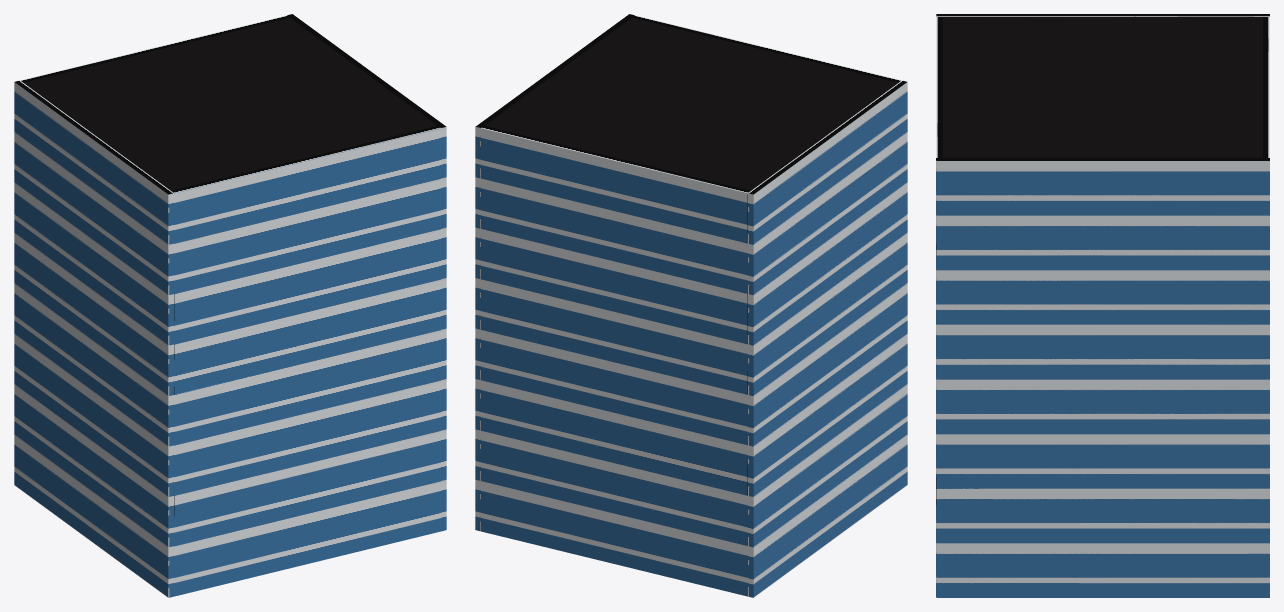
The model's file is House.fbx.
3 renders of one model, left to right at view 1: azimuth 30°, elevation 25°; view 2: azimuth 150°, elevation 25°; view 3: azimuth 270°, elevation 25°, orthographic. The views are drawn at different scales.
Visible parts, largest first — view 1: Cube, Cube_cell.042, Cube_cell.036, Cube_cell.022, Cube_cell.040, Cube_cell.052, Cube_cell.019, Cube_cell.015, Cube_cell.028, Cube_cell.026, Cube_cell.014, Cube_cell.043 (+20 smaller); view 2: Cube, Cube_cell.042, Cube_cell.022, Cube_cell.014, Cube_cell.015, Cube_cell.026, Cube_cell.028, Cube_cell.023, Cube_cell.043, Cube_cell.039, Cube_cell.044, Cube_cell.025 (+9 smaller); view 3: Cube, Cube_cell.002, Cube_cell.008, Cube_cell.030, Cube_cell.021, Cube_cell.033, Cube_cell.042, Cube_cell.022, Cube_cell.016, Cube_cell.041, Cube_cell.018, Cube_cell.044 (+13 smaller).
Boxes of the visible parts, x1,y1,x2,y2 form: Cube: [14, 14, 445, 596]; Cube_cell.042: [20, 48, 237, 160]; Cube_cell.036: [259, 310, 420, 459]; Cube_cell.022: [219, 76, 414, 195]; Cube_cell.040: [263, 396, 394, 567]; Cube_cell.052: [269, 195, 385, 363]; Cube_cell.019: [95, 194, 302, 361]; Cube_cell.015: [83, 126, 207, 245]; Cube_cell.028: [145, 124, 301, 255]; Cube_cell.026: [14, 116, 92, 286]; Cube_cell.014: [61, 286, 144, 492]; Cube_cell.043: [83, 453, 263, 548]; Cube: [475, 14, 907, 596]; Cube_cell.042: [609, 98, 824, 199]; Cube_cell.022: [595, 34, 776, 108]; Cube_cell.014: [800, 300, 883, 499]; Cube_cell.015: [747, 98, 890, 224]; Cube_cell.026: [747, 174, 831, 311]; Cube_cell.028: [739, 53, 907, 154]; Cube_cell.023: [603, 434, 785, 597]; Cube_cell.043: [822, 371, 907, 545]; Cube_cell.039: [531, 99, 656, 155]; Cube_cell.044: [484, 87, 607, 136]; Cube_cell.025: [748, 438, 813, 524]; Cube: [936, 14, 1269, 597]; Cube_cell.002: [1073, 187, 1246, 360]; Cube_cell.008: [1089, 337, 1252, 469]; Cube_cell.030: [997, 123, 1153, 296]; Cube_cell.021: [936, 415, 1107, 526]; Cube_cell.033: [1072, 468, 1269, 597]; Cube_cell.042: [1064, 16, 1262, 98]; Cube_cell.022: [943, 72, 1135, 171]; Cube_cell.016: [936, 336, 1096, 421]; Cube_cell.041: [936, 538, 1081, 597]; Cube_cell.018: [936, 225, 1074, 317]; Cube_cell.044: [1137, 123, 1269, 203].
Size of the model in its own units: 1154 by 1600 by 1107.
